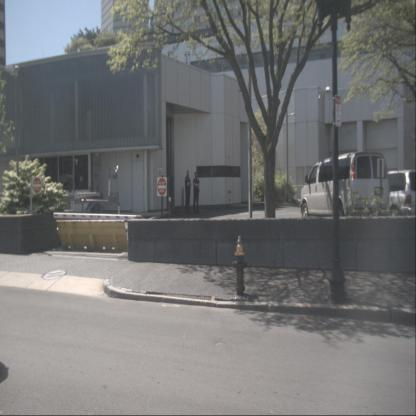vehicle-car: (300, 151, 390, 226), (355, 169, 415, 226)
